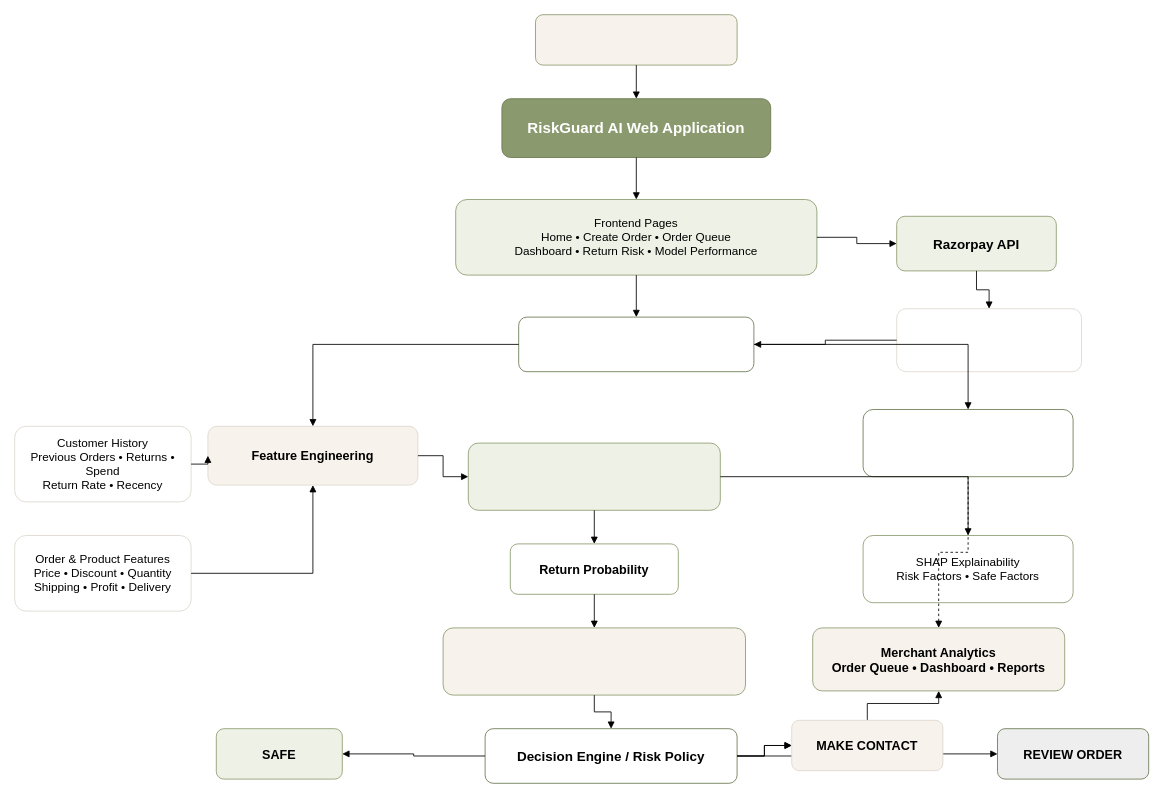
This 1163x798 diagram has some shape labels left out. Here are the shapes that lost their labels. From the top down, the centre of each, then its label:
At (636,39): "Merchant / Customer".
At (636,344): "FastAPI Backend".
At (989,340): "Razorpay Webhook Signature Verification".
At (967,443): "PostgreSQL / Neon Orders • Transactions • Risk Results".
At (593,476): "Return Risk Model Random Forest".
At (594,661): "Expected Return Loss Probability × (Profit Margin + Shipping Cost)".
